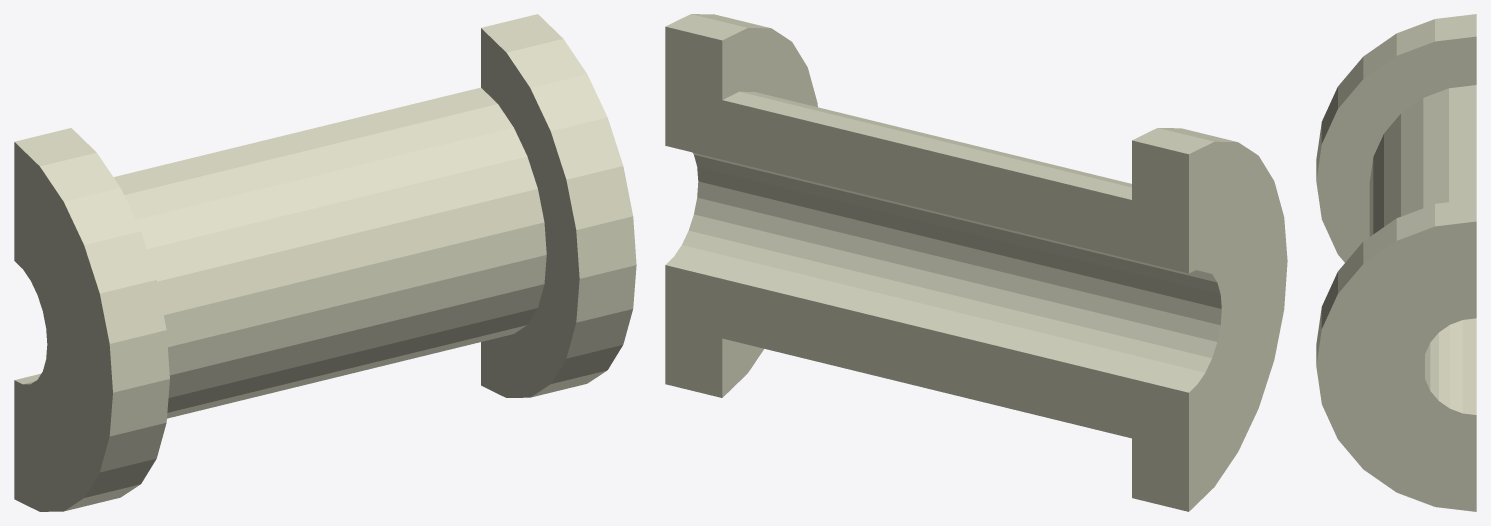
File: section_066.obj
The picture shows the model from 3 angles, left to right: view 1: azimuth 30°, elevation 25°; view 2: azimuth 150°, elevation 25°; view 3: azimuth 270°, elevation 25°; orthographic projection. The views are drawn at different scales.
Size of the model in its own units: 9.19 by 6 by 3.
